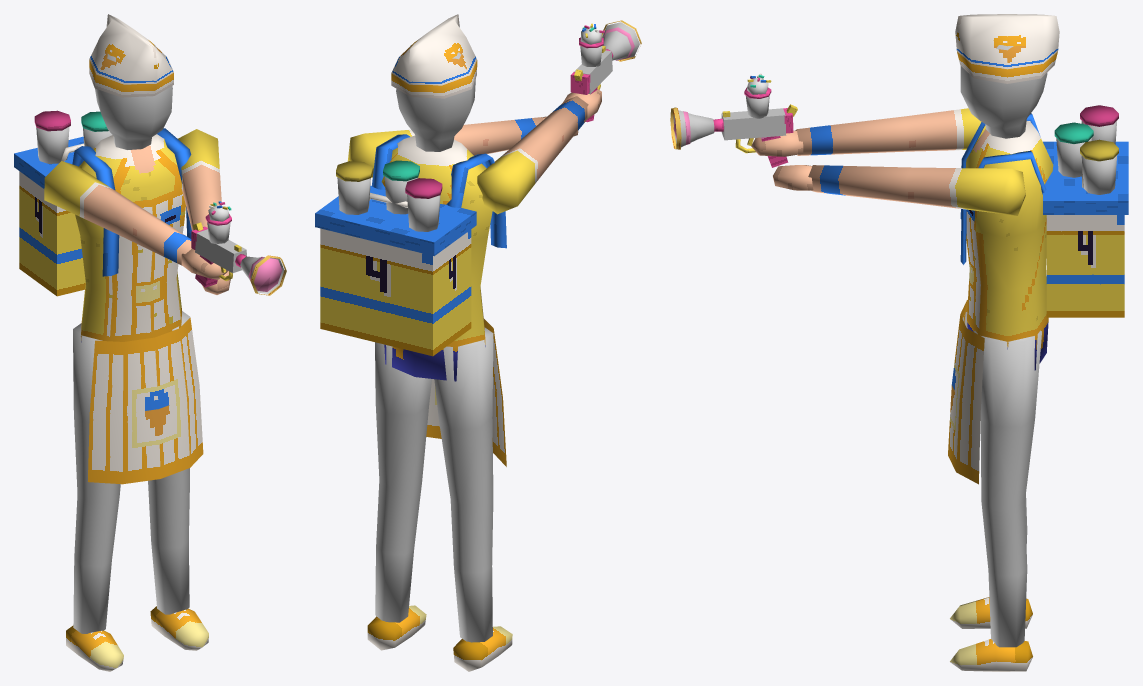
The model's file is Player Yellow.fbx.
The picture shows the model from 3 angles, left to right: view 1: azimuth 30°, elevation 25°; view 2: azimuth 150°, elevation 25°; view 3: azimuth 270°, elevation 25°; orthographic projection. The views are drawn at different scales.
Parts seen in each view (by area): view 1: Player Yellow apron, Player Yellow torso, Player Yellow leg R.001, Player Yellow arm R arm, Player Yellow cooler, Player Yellow leg L.001, Player Yellow hat, Player Yellow head, Player Yellow arm L arm, Player Yellow shoe L, Player Yellow shoe R, Player Yellow strap -1 (+9 smaller); view 2: Player Yellow cooler, Player Yellow leg R.001, Player Yellow leg L.001, Player Yellow torso, Player Yellow arm R arm, Player Yellow hat, Player Yellow cooler lid, Player Yellow head, Player Yellow arm L arm, Player Yellow apron, Player Yellow strap -1, Player Yellow shoe R (+10 smaller); view 3: Player Yellow leg L.001, Player Yellow torso, Player Yellow cooler, Player Yellow arm L arm, Player Yellow hat, Player Yellow arm R arm, Player Yellow apron, Player Yellow head, Player Yellow cooler lid, Player Yellow shoe L, Player Yellow body, Player Yellow pint 2 (+9 smaller).
Boxes of the visible parts, left/top/right/bottom form: Player Yellow apron: left=88, top=317, right=203, bottom=484; Player Yellow torso: left=75, top=134, right=185, bottom=342; Player Yellow leg R.001: left=73, top=323, right=120, bottom=633; Player Yellow arm R arm: left=44, top=161, right=191, bottom=265; Player Yellow cooler: left=19, top=171, right=85, bottom=296; Player Yellow leg L.001: left=148, top=311, right=190, bottom=614; Player Yellow hat: left=89, top=14, right=173, bottom=97; Player Yellow head: left=95, top=44, right=172, bottom=149; Player Yellow arm L arm: left=178, top=129, right=221, bottom=230; Player Yellow shoe L: left=150, top=606, right=208, bottom=650; Player Yellow shoe R: left=66, top=625, right=123, bottom=671; Player Yellow strap -1: left=72, top=146, right=119, bottom=276; Player Yellow cooler: left=320, top=228, right=471, bottom=356; Player Yellow leg R.001: left=434, top=327, right=493, bottom=642; Player Yellow leg L.001: left=375, top=342, right=431, bottom=622; Player Yellow torso: left=372, top=135, right=492, bottom=381; Player Yellow arm R arm: left=477, top=96, right=588, bottom=214; Player Yellow hat: left=391, top=14, right=477, bottom=98; Player Yellow cooler lid: left=315, top=185, right=476, bottom=256; Player Yellow head: left=396, top=45, right=475, bottom=151; Player Yellow arm L arm: left=347, top=117, right=543, bottom=177; Player Yellow apron: left=426, top=318, right=506, bottom=466; Player Yellow strap -1: left=446, top=153, right=506, bottom=248; Player Yellow shoe R: left=453, top=626, right=512, bottom=671; Player Yellow leg L.001: left=973, top=330, right=1041, bottom=647; Player Yellow torso: left=965, top=121, right=1053, bottom=370; Player Yellow cooler: left=1046, top=215, right=1124, bottom=317; Player Yellow arm L arm: left=808, top=165, right=1025, bottom=215; Player Yellow hat: left=955, top=14, right=1059, bottom=83; Player Yellow arm R arm: left=795, top=108, right=985, bottom=155; Player Yellow apron: left=948, top=300, right=984, bottom=484; Player Yellow head: left=960, top=45, right=1047, bottom=138; Player Yellow cooler lid: left=1043, top=141, right=1128, bottom=214; Player Yellow shoe L: left=950, top=639, right=1032, bottom=671; Player Yellow body: left=721, top=108, right=786, bottom=140; Player Yellow pint 2: left=1081, top=155, right=1117, bottom=194.
Bounding box in the file's own units: 0.5216 × 1.8 × 1.18.
